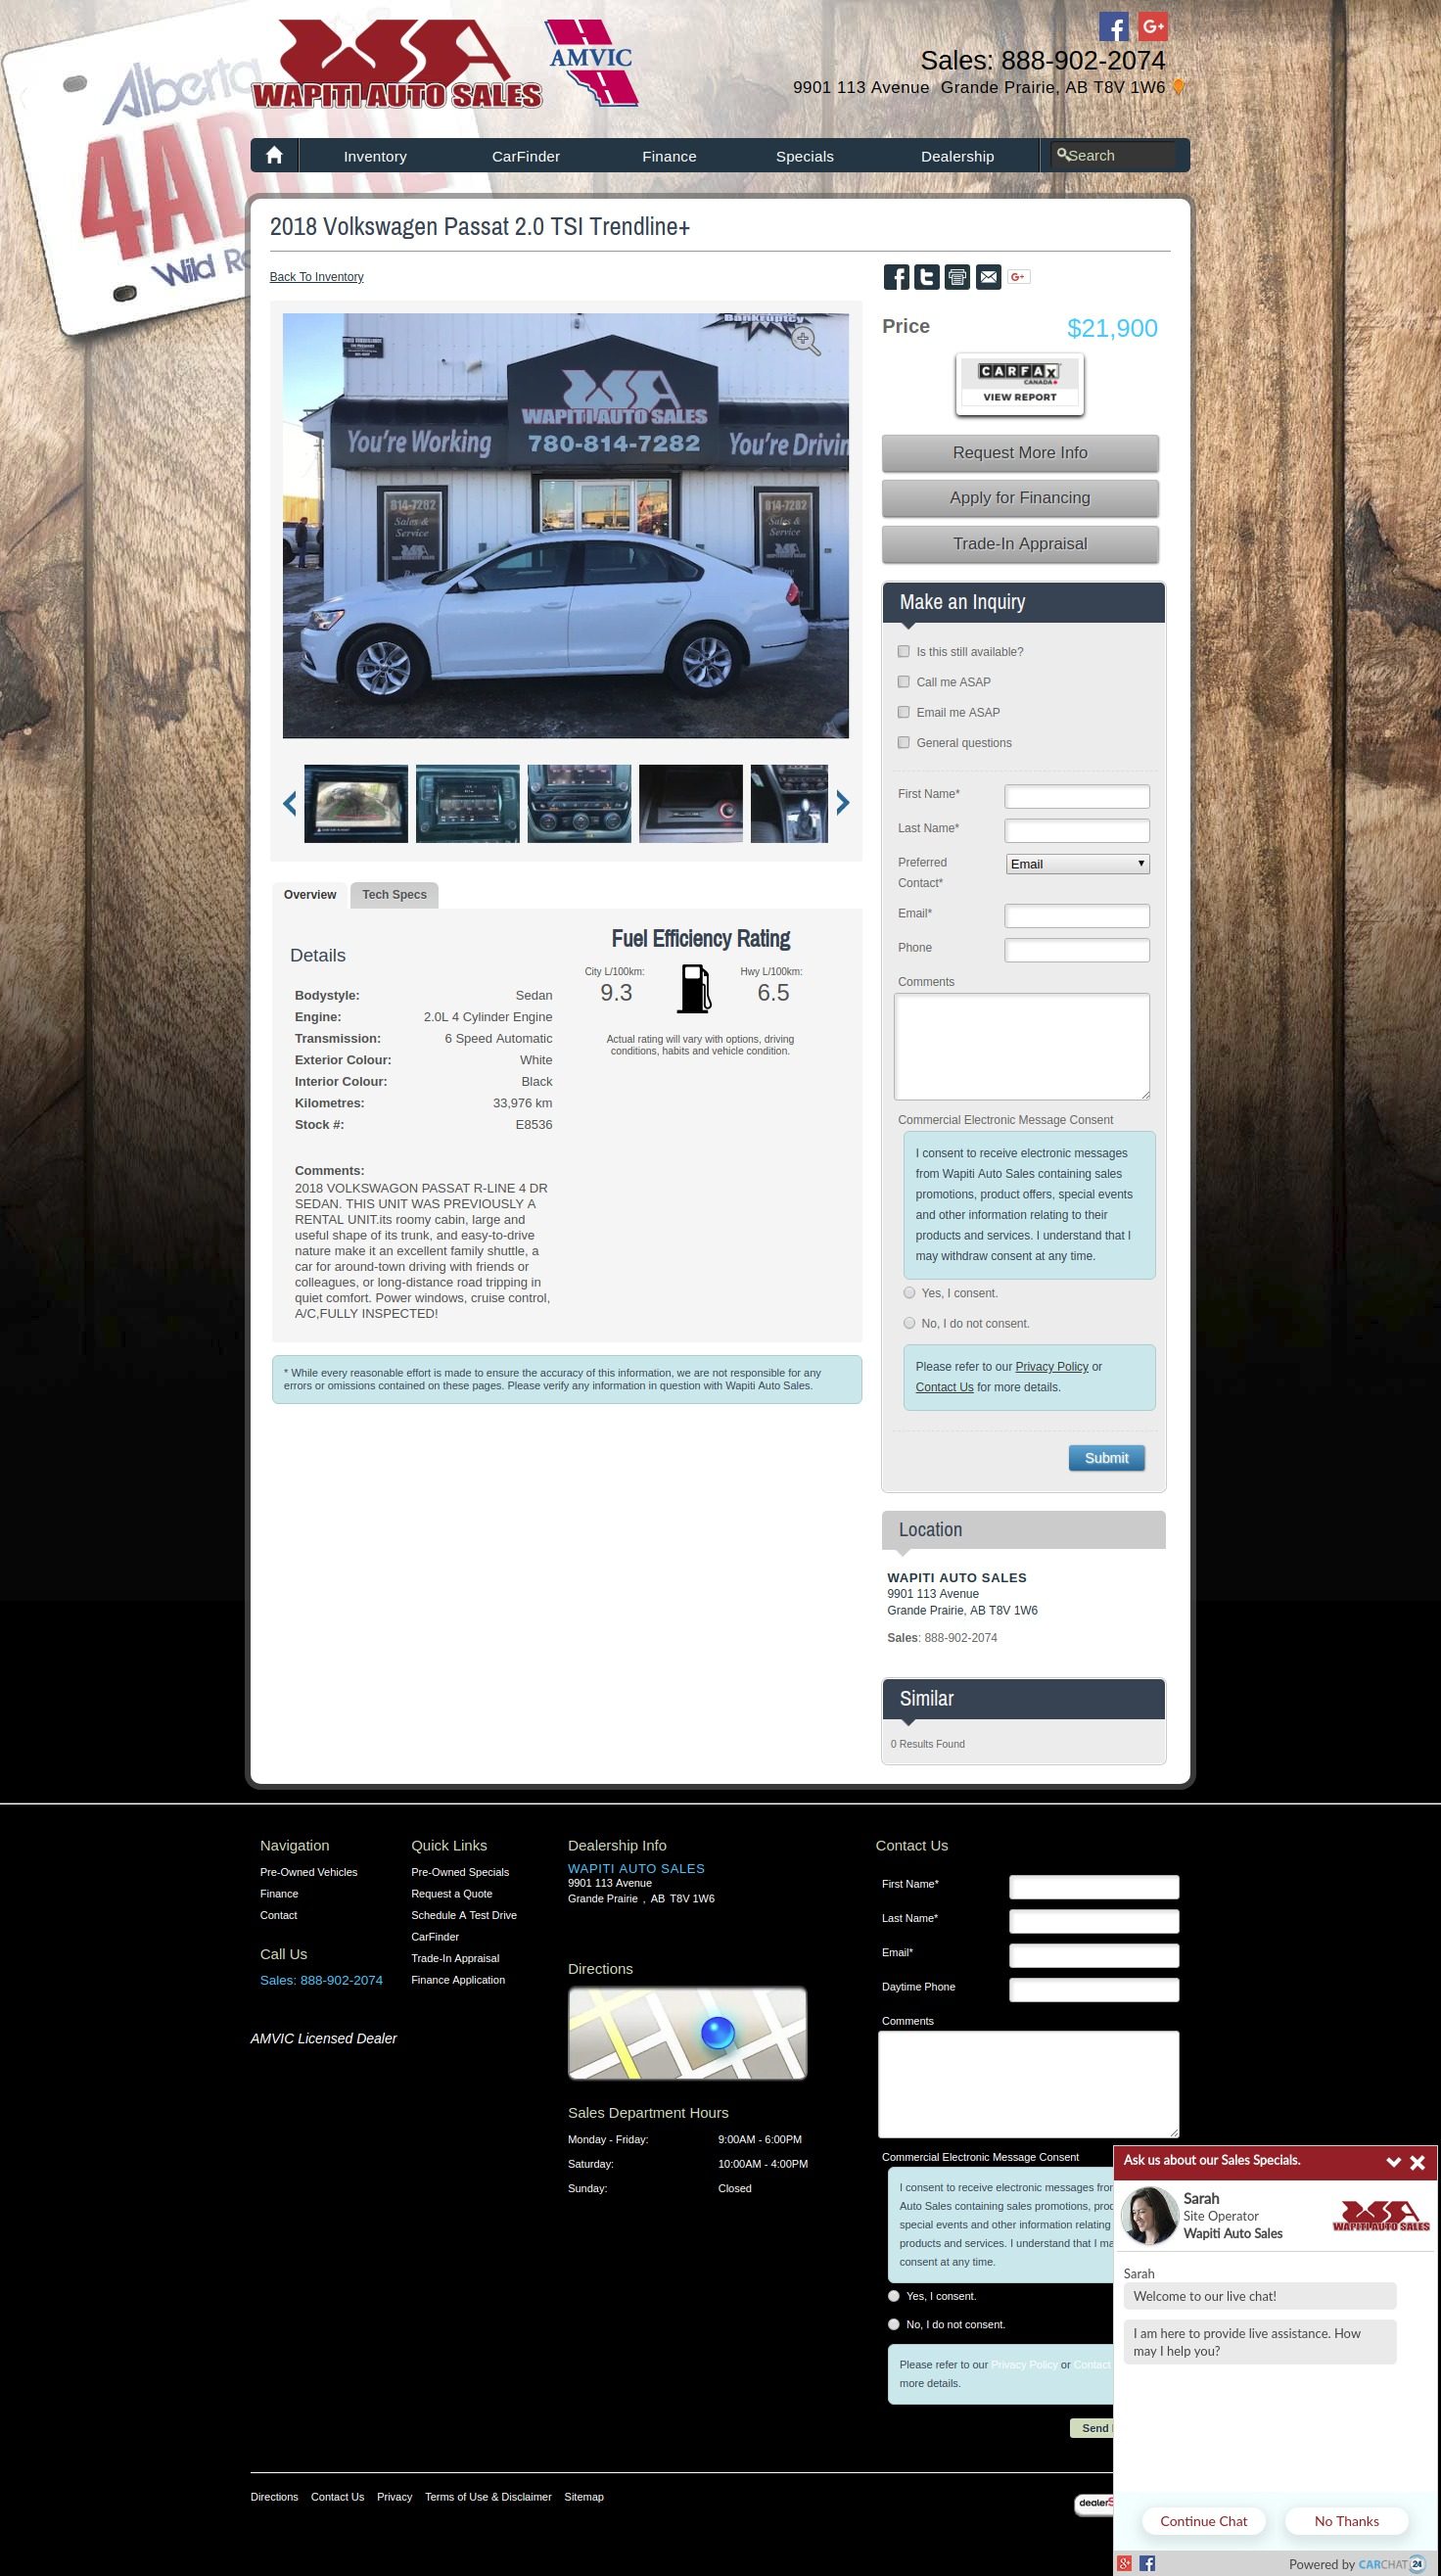car: (836, 789, 850, 817)
